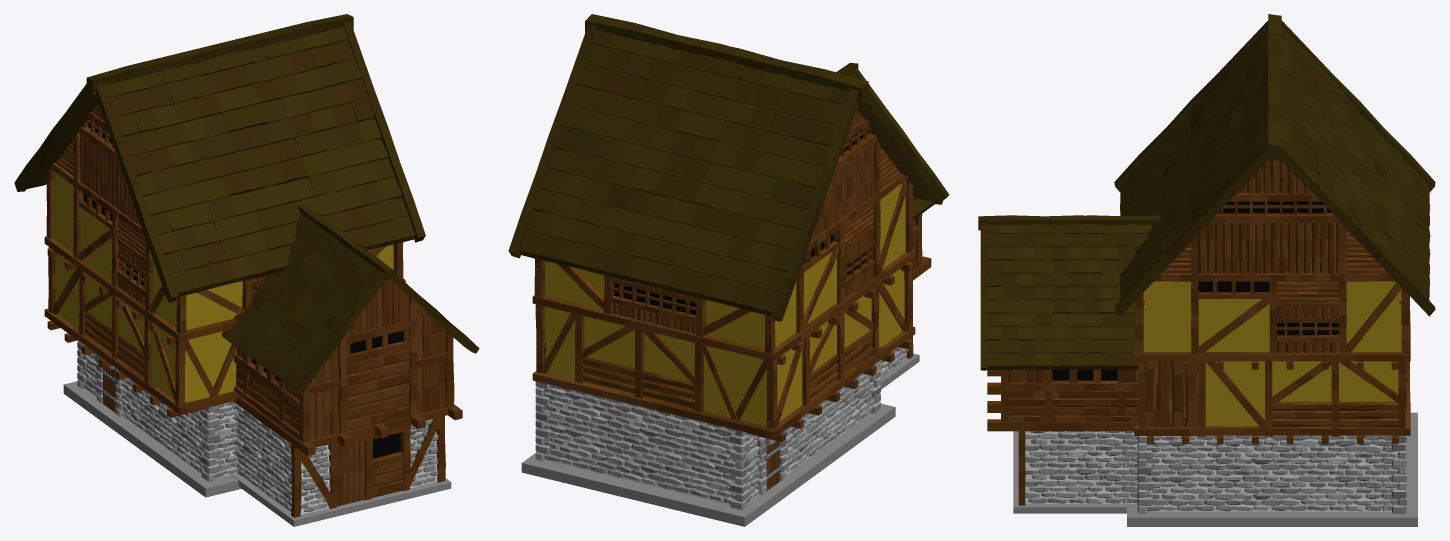
File: castle_town_house_5.fbx
The picture shows the model from 3 angles, left to right: view 1: azimuth 30°, elevation 25°; view 2: azimuth 150°, elevation 25°; view 3: azimuth 270°, elevation 25°; orthographic projection. The views are drawn at different scales.
Visible parts, largest first — view 1: house 5; view 2: house 5; view 3: house 5.
Part boxes in pixels (left/top/right/bottom): house 5: left=14, top=14, right=479, bottom=526; house 5: left=508, top=14, right=949, bottom=526; house 5: left=978, top=14, right=1435, bottom=526.
Size of the model in its own units: 10267 by 9603 by 6920.
